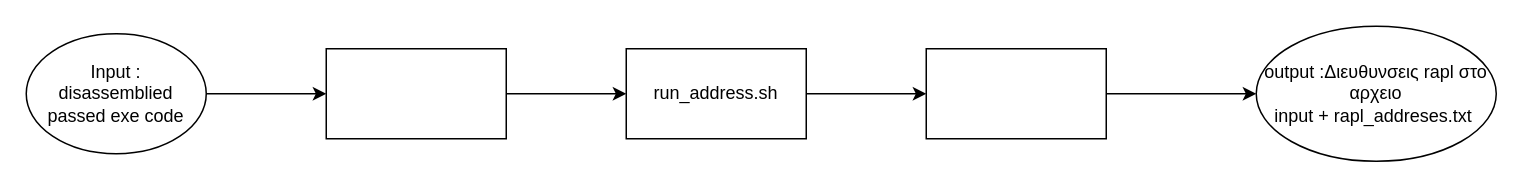
This 1523x188 diagram has some shape labels left out. The centre of each missing label's shape, as x and y in pixels:
Addresses_folder: pixel 415 93
Ευρεση διεθυνσεων των 3 rapl reads: pixel 1015 93
